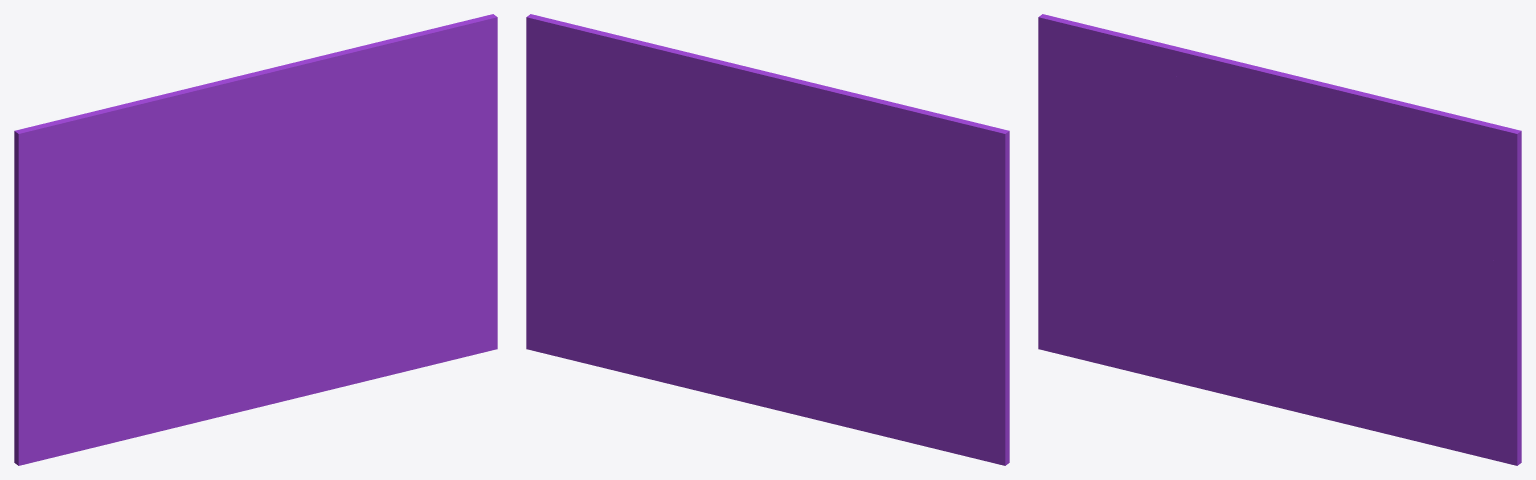
The model's file is Glass_12_chunks.fbx.
3 views of the same model, side by side, from view 1: azimuth 30°, elevation 25°; view 2: azimuth 150°, elevation 25°; view 3: azimuth 330°, elevation 25° (orthographic).
Parts seen in each view (by area): view 1: Glass_12_2, Glass_12_3, Glass_12_0, Glass_12_1; view 2: Glass_12_2, Glass_12_3, Glass_12_0, Glass_12_1; view 3: Glass_12_2, Glass_12_3, Glass_12_0, Glass_12_1.
Boxes of the visible parts, x1,y1,x2,y2 form: Glass_12_2: (211,145,497,418); Glass_12_3: (139,14,497,241); Glass_12_0: (14,228,260,465); Glass_12_1: (14,99,241,258); Glass_12_2: (526,143,817,420); Glass_12_3: (526,14,888,238); Glass_12_0: (772,232,1009,465); Glass_12_1: (762,101,1009,262); Glass_12_2: (1231,243,1521,465); Glass_12_3: (1159,45,1521,261); Glass_12_0: (1038,118,1279,395); Glass_12_1: (1038,14,1260,219).
Bounding box in the file's own units: 1728 × 1144 × 27.2.
